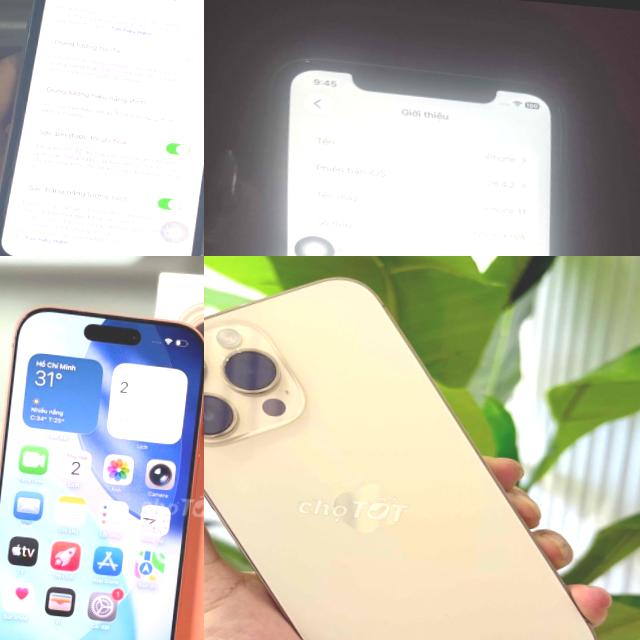gen_11: (239, 43, 615, 256)
gen_14: (204, 256, 631, 640)
gen_17: (0, 298, 204, 640)
gen_x_xs: (0, 0, 204, 256)
